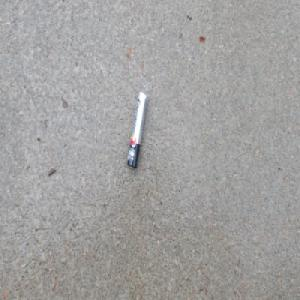Battery: (125, 89, 148, 170)
